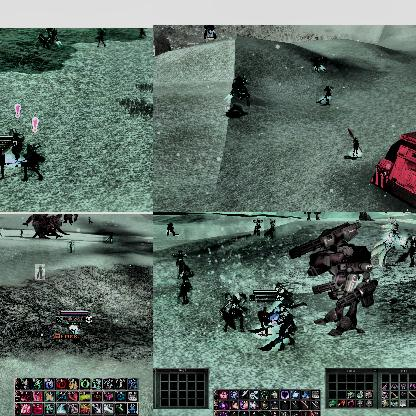caliana: (220, 292, 248, 332), (271, 304, 295, 350), (21, 143, 45, 181), (177, 268, 193, 304), (12, 129, 24, 159), (316, 85, 332, 105), (311, 57, 327, 73), (264, 218, 276, 238), (253, 217, 263, 235), (35, 264, 45, 280), (98, 28, 106, 46), (103, 232, 113, 244), (67, 241, 75, 253), (88, 216, 92, 224), (0, 229, 3, 238), (20, 228, 22, 236)
